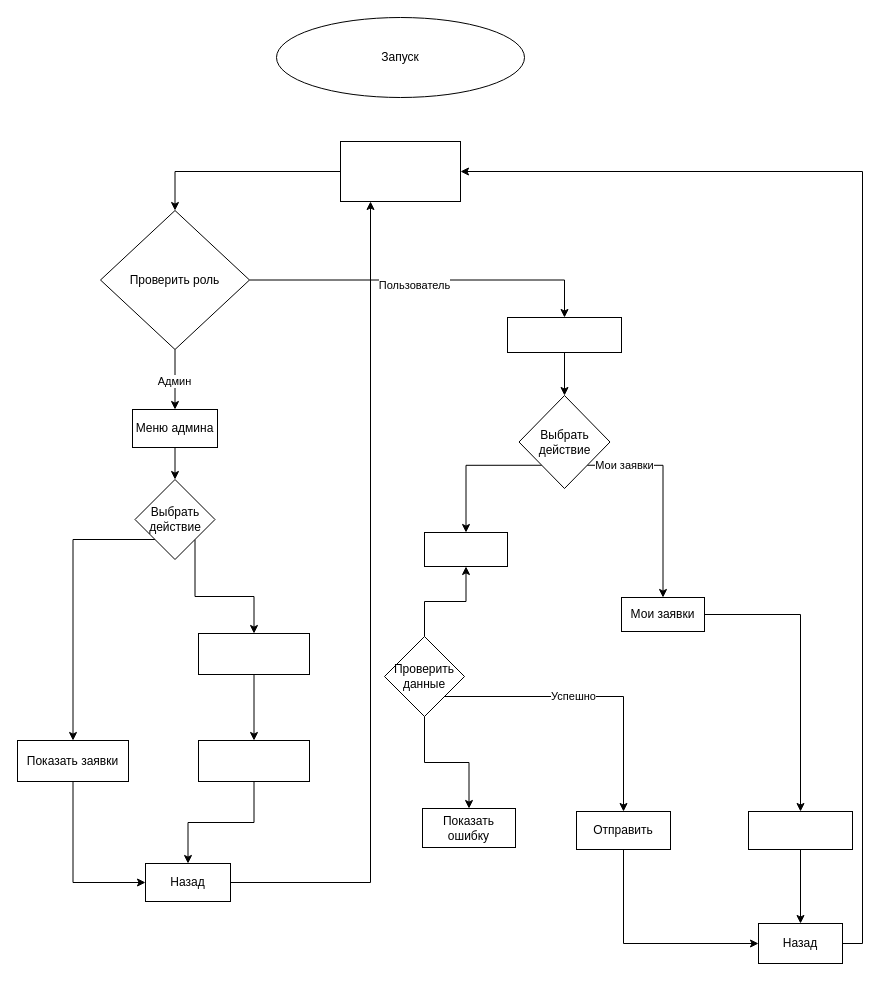
Some shapes in this 888 by 981 pixel diagram are drawn without their labels. Here are the shapes that lost their labels. From the top down, the centre of each, then its label:
the point at 400,171: Авторизация
the point at 564,334: Меню пользователя
the point at 466,549: Создать заявку
the point at 254,653: Смена статуса
the point at 254,761: Уведомить пользователя
the point at 800,830: Проверить статус
